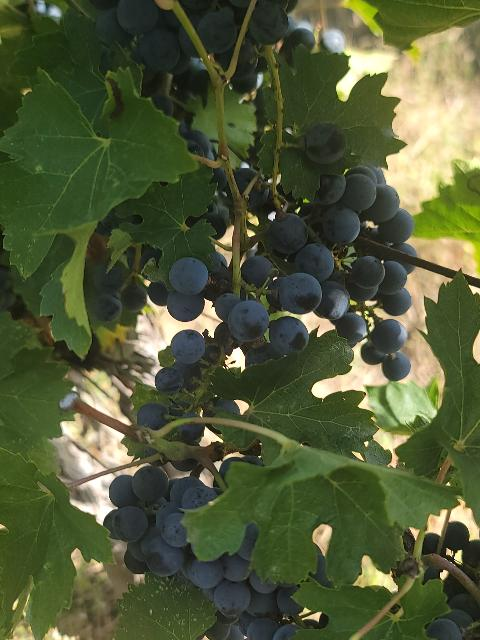grapes: (104, 464, 304, 640), (269, 166, 414, 381), (426, 574, 480, 640), (441, 521, 480, 582), (310, 548, 332, 588), (221, 456, 261, 471), (422, 532, 440, 555), (422, 566, 442, 584)
